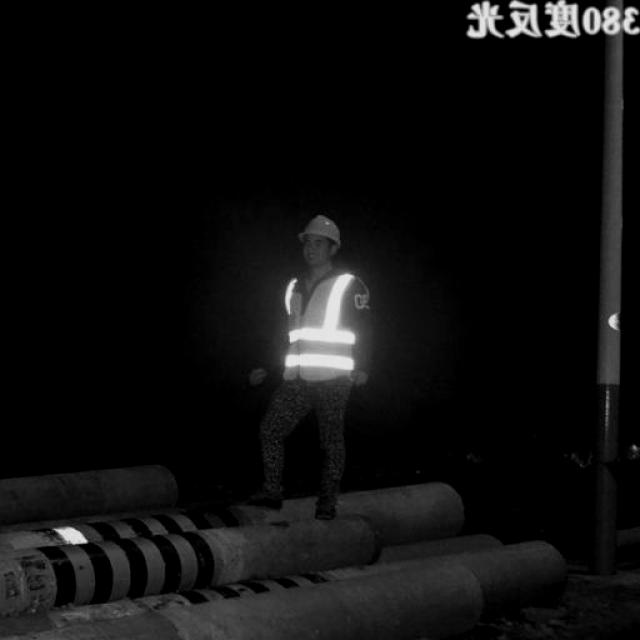face_nomask: (296, 234, 332, 265)
hand_noglove: (242, 362, 270, 391), (347, 364, 372, 392)
head_helmet: (300, 212, 344, 246)
person: (230, 211, 380, 528)
shoes: (238, 484, 288, 516), (308, 491, 344, 528)
vest: (272, 268, 372, 397)
